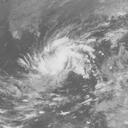cyclone: (15, 25, 106, 102)
